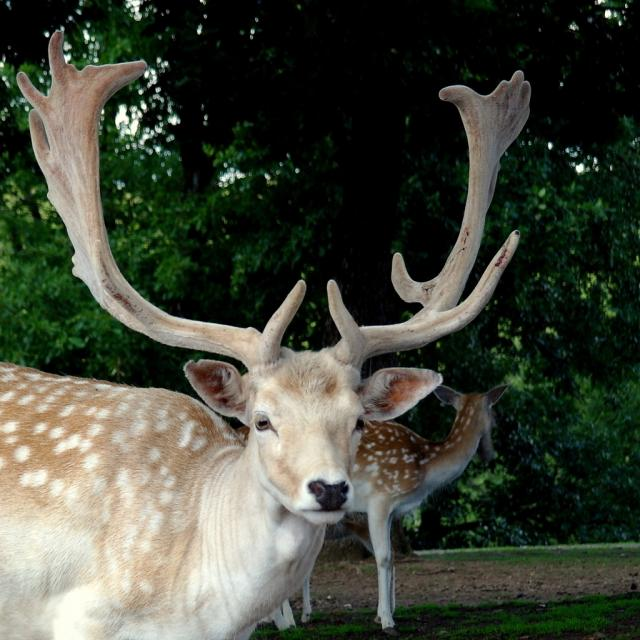Deer: (0, 31, 531, 640), (235, 380, 512, 636)
